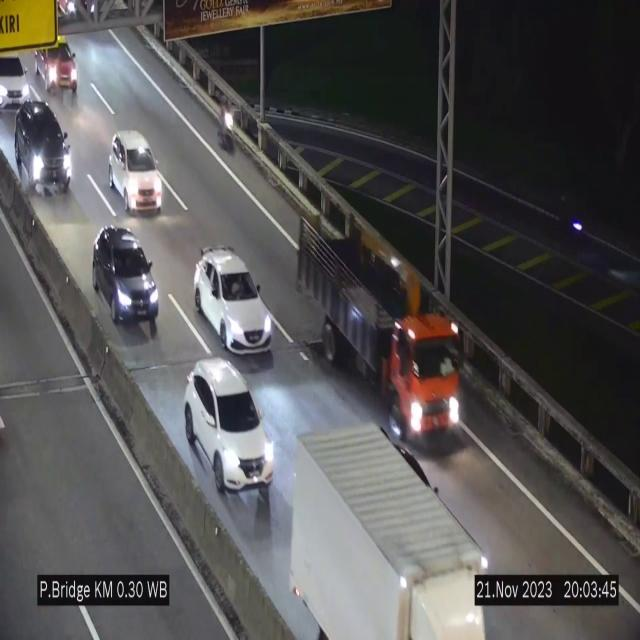Car: (184, 359, 274, 490), (194, 248, 273, 354), (92, 226, 158, 326), (12, 99, 75, 199), (108, 130, 162, 213), (31, 32, 81, 98), (0, 47, 36, 121)
Motorcycle: (218, 95, 235, 157)
Truck: (284, 404, 495, 640), (294, 203, 462, 437)
